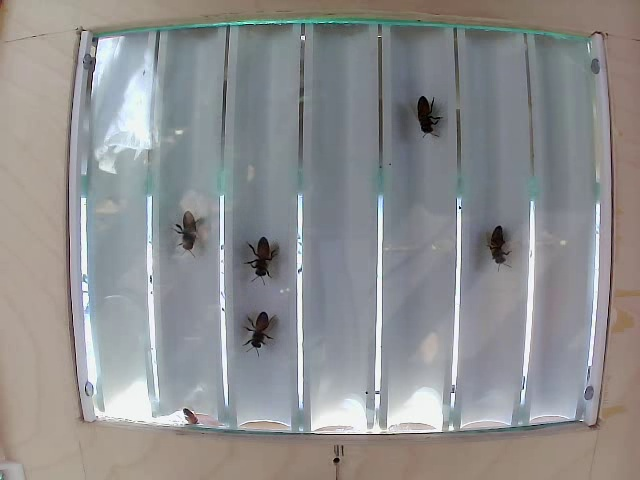bee: (147, 207, 209, 257), (241, 297, 286, 362), (244, 234, 297, 289), (410, 77, 446, 136), (485, 217, 516, 274)
